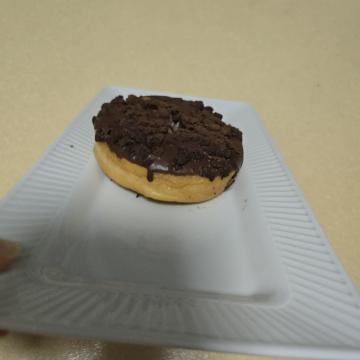doughnut: (76, 105, 226, 280)
